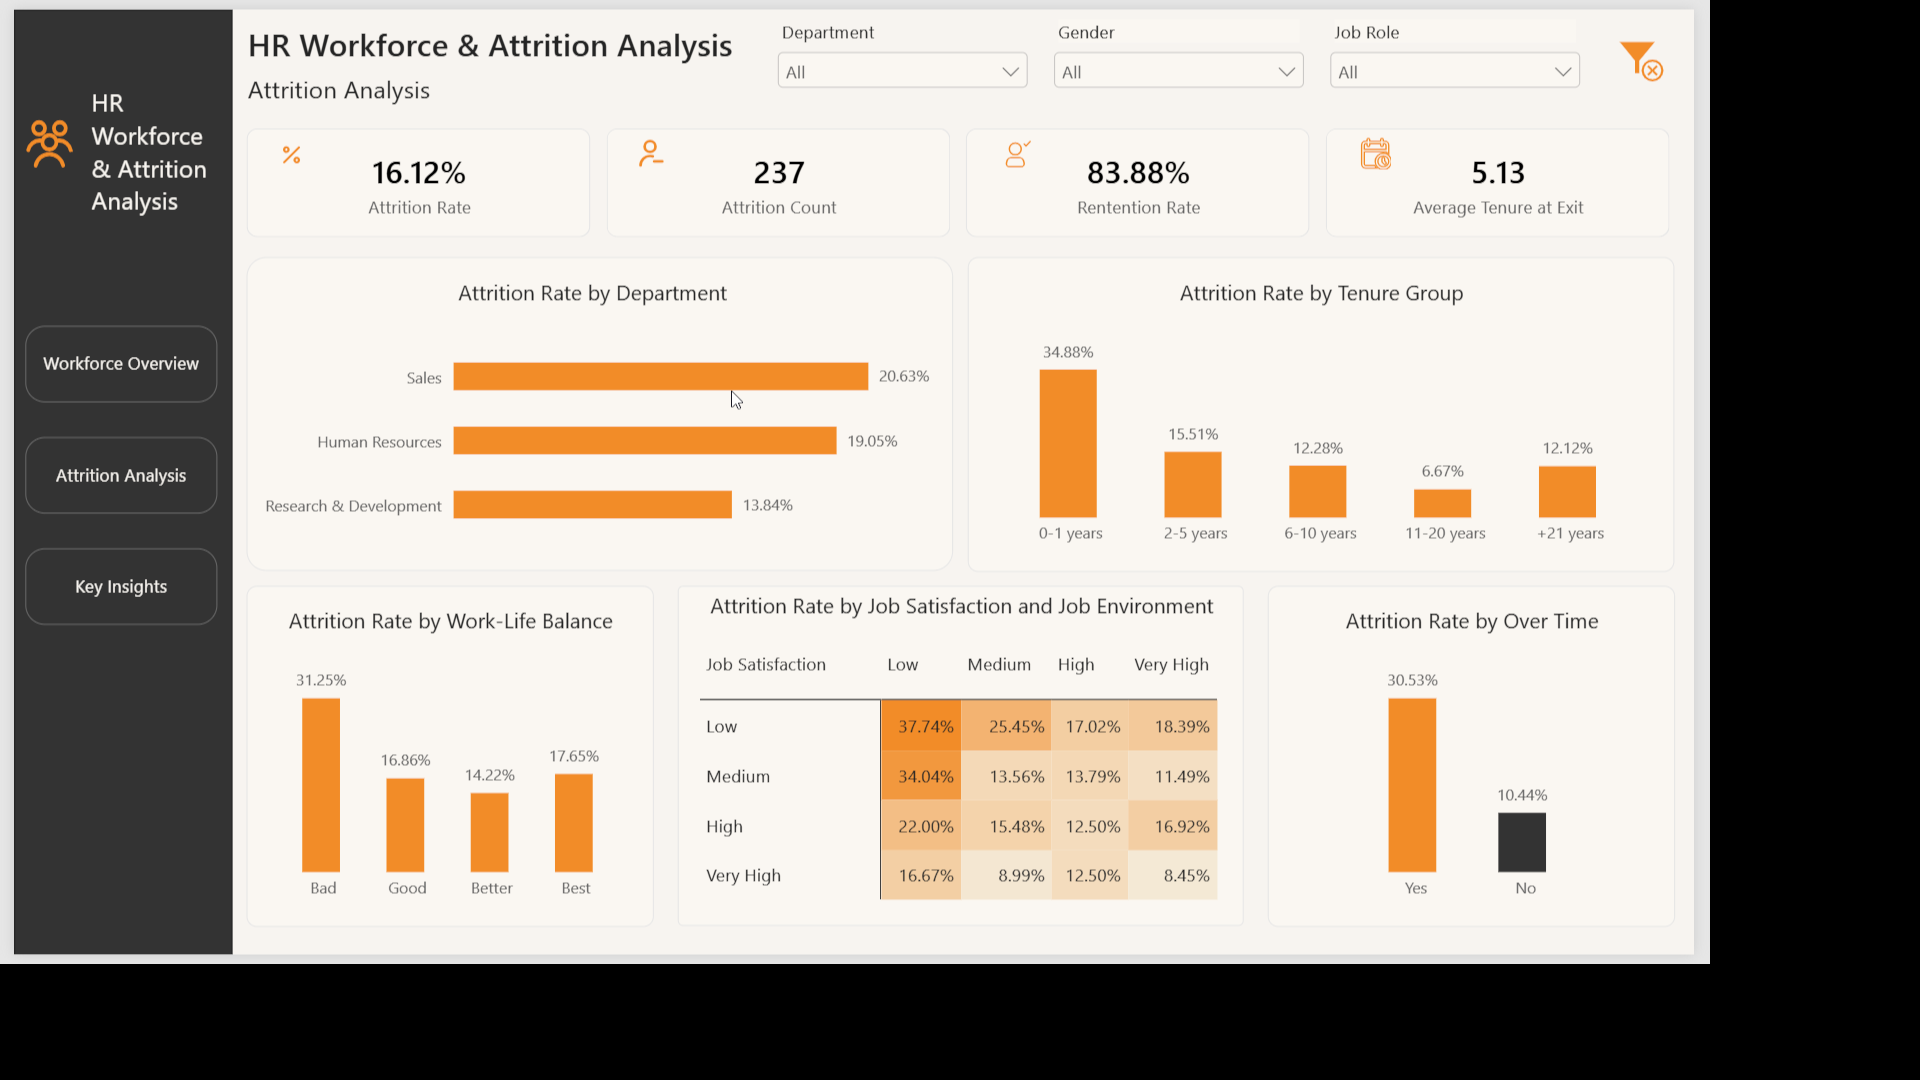

Layout of this report page (visuals, bound fields, positions):
{"tool":"powerbi","page":{"name":"Attrition Analysis","canvas":[1280,720],"ordinal":1},"visuals":[{"type":"shape","box":[0,0,166.6,1079.9],"z":0,"group":"g1"},{"type":"textbox","box":[178,10,389,38],"z":0},{"type":"cardVisual","fields":{"Data":["MeasuresTable.Attrition Rate","MeasuresTable.Attrition Count","MeasuresTable.Rentention Rate","MeasuresTable.Average Tenure at exit"]},"box":[177.3,90.2,1087.5,83],"z":1000},{"type":"textbox","box":[178,48,207,29.7],"z":2000},{"type":"clusteredBarChart","title":"Attrition Rate by Department","fields":{"Category":["WA_Fn-UseC_-HR-Employee-Attrition.Department"],"Y":["MeasuresTable.Attrition Rate"]},"box":[177.3,188.6,538,238.8],"z":3000},{"type":"clusteredColumnChart","title":"Attrition Rate by Tenure Group","fields":{"Category":["WA_Fn-UseC_-HR-Employee-Attrition.TenureGroup"],"Y":["MeasuresTable.Attrition Rate"]},"box":[727.1,188.2,538,240.4],"z":4000},{"type":"slicer","fields":{"Values":["WA_Fn-UseC_-HR-Employee-Attrition.Department"]},"box":[577.4,8,200,58.9],"z":5000},{"type":"slicer","fields":{"Values":["WA_Fn-UseC_-HR-Employee-Attrition.Gender"]},"box":[787.7,8,200,58.9],"z":6000},{"type":"slicer","fields":{"Values":["WA_Fn-UseC_-HR-Employee-Attrition.JobRole"]},"box":[998,8,200,58.9],"z":7000},{"type":"image","title":"Remove Filter","box":[1215,18,50,40],"z":8000},{"type":"group","id":"g1","title":"Group 1","box":[0,0,166.6,1079.9],"z":9000},{"type":"clusteredColumnChart","title":"Attrition Rate by Work-Life Balance","fields":{"Category":["WA_Fn-UseC_-HR-Employee-Attrition.WorkLifeBalanceLabel"],"Y":["MeasuresTable.Attrition Rate"]},"box":[177,439,310,260],"z":10000},{"type":"pivotTable","title":"Attrition Rate by Job Satisfaction and Job Environment","fields":{"Columns":["WA_Fn-UseC_-HR-Employee-Attrition.EnvironmentSatisfactionLabel"],"Rows":["WA_Fn-UseC_-HR-Employee-Attrition.JobSatisfactionLabel"],"Values":["MeasuresTable.Attrition Rate"]},"box":[505.4,439.4,431.5,259.3],"z":11000},{"type":"textbox","box":[59,58,96.3,102.5],"z":12000,"group":"g1"},{"type":"columnChart","title":"Attrition Rate by Over Time","fields":{"Category":["WA_Fn-UseC_-HR-Employee-Attrition.OverTime"],"Y":["MeasuresTable.Attrition Rate"]},"box":[955.3,438.7,310,260],"z":12000},{"type":"image","box":[9,72,37,60],"z":13000,"group":"g1"},{"type":"image","box":[187,97,50,27],"z":13000},{"type":"image","box":[462.7,97,45,25],"z":14000},{"type":"actionButton","box":[9,241,146.6,58.4],"z":14000,"group":"g1"},{"type":"image","box":[738.3,97,50,27],"z":15000},{"type":"actionButton","box":[9,325.5,146.6,58.4],"z":15000,"group":"g1"},{"type":"image","box":[1014,97,45,25],"z":16000},{"type":"actionButton","box":[9,410,146.6,58.4],"z":17000,"group":"g1"}]}

Visuals, with their boxes on the page's 1280x720 design canvas (x1, y1, x2, y2). These are canvas units, not pixel positions in the 1920x1080 screenshot, which may show the page scaled, cropped or inside an application window:
shape: (left=0, top=0, right=167, bottom=1080)
textbox: (left=178, top=10, right=567, bottom=48)
cardVisual - MeasuresTable.Attrition Rate x MeasuresTable.Attrition Count: (left=177, top=90, right=1265, bottom=173)
textbox: (left=178, top=48, right=385, bottom=78)
"Attrition Rate by Department" clusteredBarChart: (left=177, top=189, right=715, bottom=427)
"Attrition Rate by Tenure Group" clusteredColumnChart: (left=727, top=188, right=1265, bottom=429)
slicer - WA_Fn-UseC_-HR-Employee-Attrition.Department: (left=577, top=8, right=777, bottom=67)
slicer - WA_Fn-UseC_-HR-Employee-Attrition.Gender: (left=788, top=8, right=988, bottom=67)
slicer - WA_Fn-UseC_-HR-Employee-Attrition.JobRole: (left=998, top=8, right=1198, bottom=67)
"Remove Filter" image: (left=1215, top=18, right=1265, bottom=58)
"Group 1" group: (left=0, top=0, right=167, bottom=1080)
"Attrition Rate by Work-Life Balance" clusteredColumnChart: (left=177, top=439, right=487, bottom=699)
"Attrition Rate by Job Satisfaction and Job Environment" pivotTable: (left=505, top=439, right=937, bottom=699)
textbox: (left=59, top=58, right=155, bottom=160)
"Attrition Rate by Over Time" columnChart: (left=955, top=439, right=1265, bottom=699)
image: (left=9, top=72, right=46, bottom=132)
image: (left=187, top=97, right=237, bottom=124)
image: (left=463, top=97, right=508, bottom=122)
actionButton: (left=9, top=241, right=156, bottom=299)
image: (left=738, top=97, right=788, bottom=124)
actionButton: (left=9, top=326, right=156, bottom=384)
image: (left=1014, top=97, right=1059, bottom=122)
actionButton: (left=9, top=410, right=156, bottom=468)
